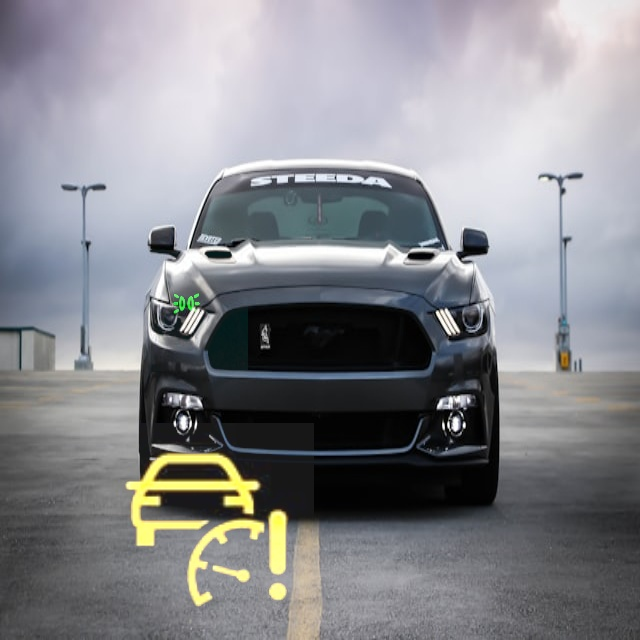symbol: (98, 423, 314, 639), (127, 250, 248, 371)
